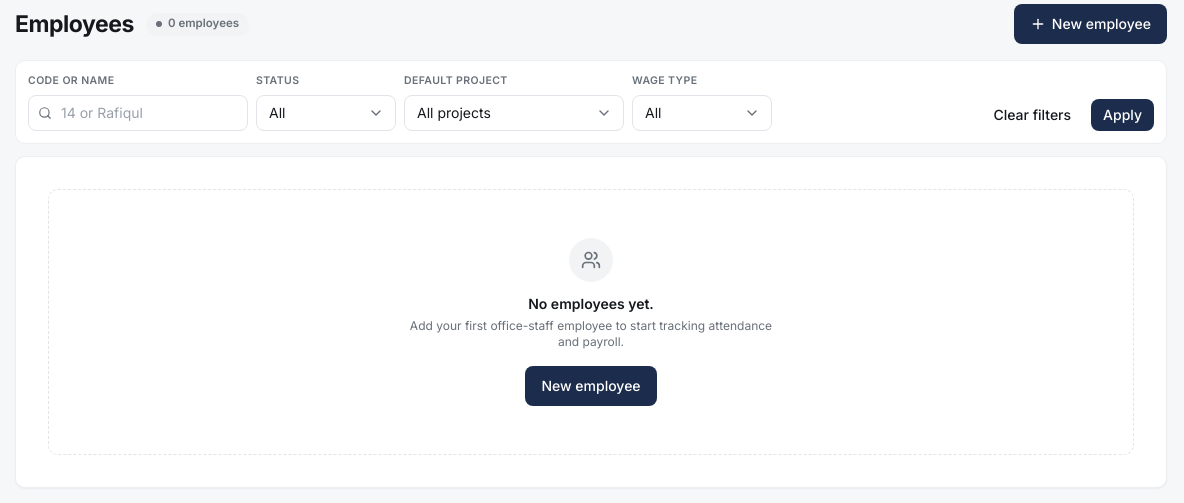
it: EmployeeList (spec §4/§6) › shows the filtered empty state after applying a filter
Select "Inactive" in the dropdown with test id "emp-filter-status" at [326, 113], box x1=256 y1=95 x2=396 y2=131
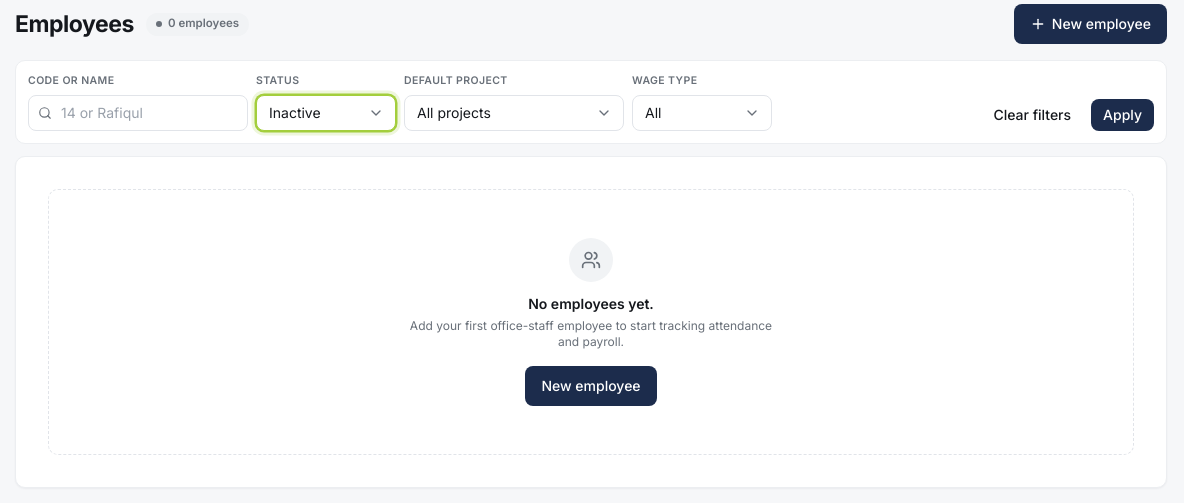
Click the button with test id "emp-filter-apply" at [1123, 115], box x1=1091 y1=99 x2=1154 y2=131
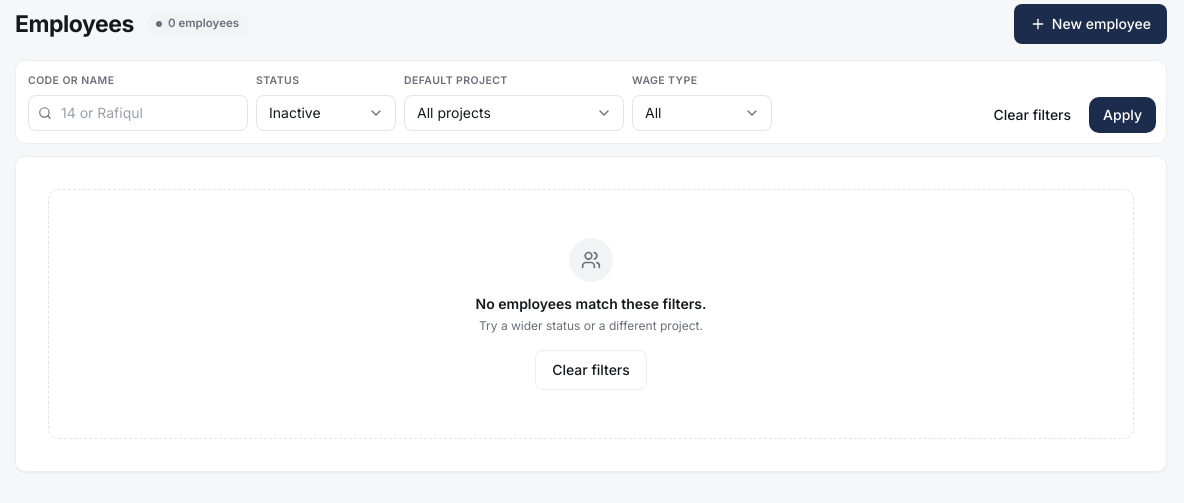
Now the element with test id "employee-empty-filtered" is shown
